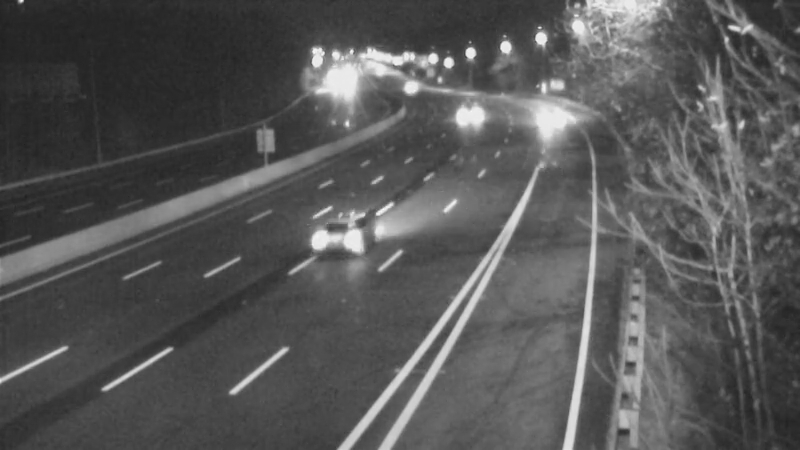vehicle: (295, 198, 375, 278), (382, 59, 432, 109), (520, 94, 570, 144), (442, 87, 492, 137)
